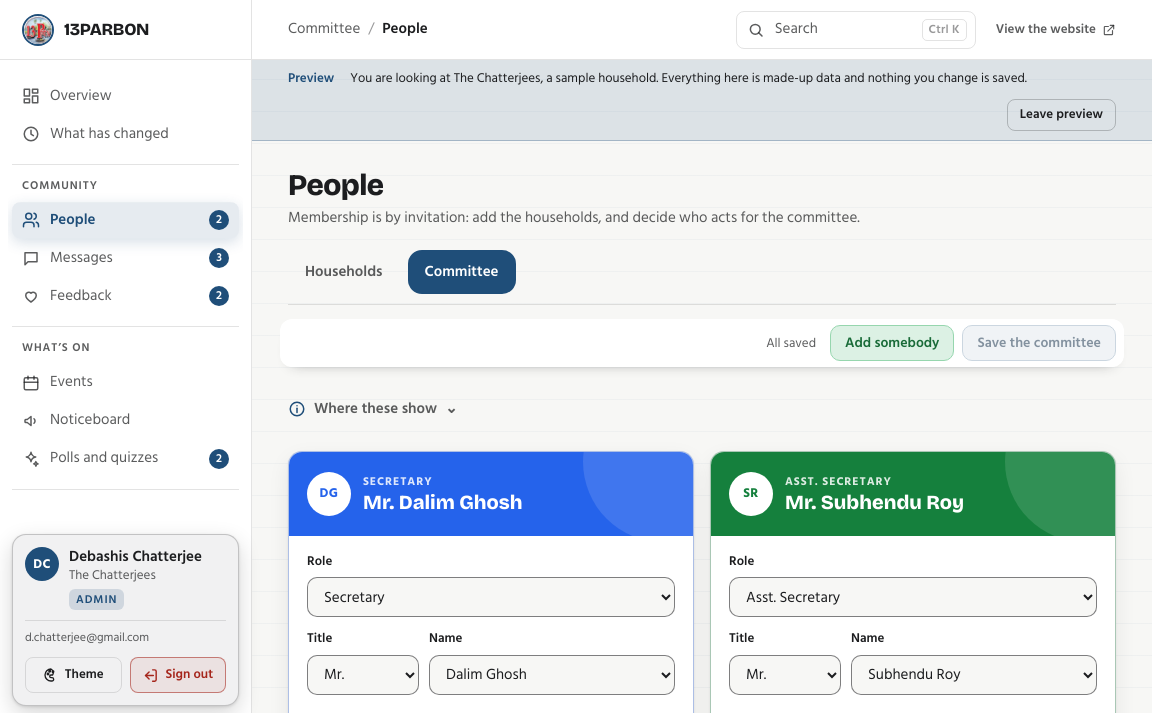
Scenario: the committee, on People › will not save a blank row, and saves a change
Click the button "Add somebody".
click(892, 343)  # box left=830, top=325, right=954, bottom=361
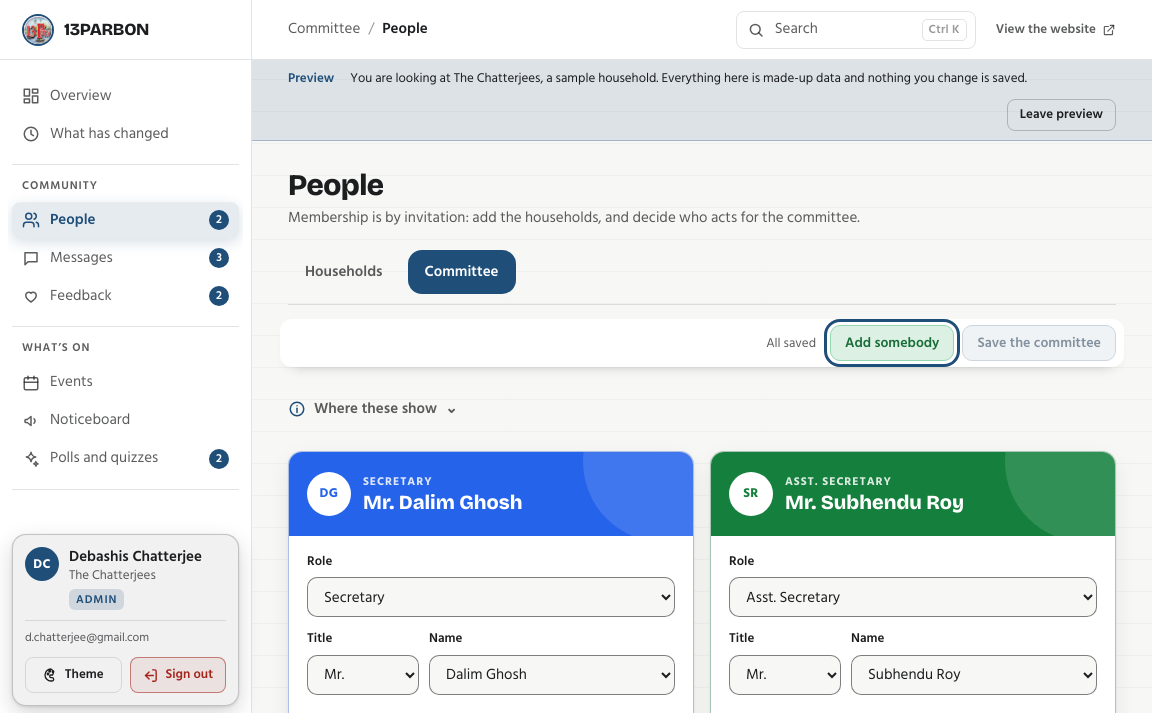
Expected: the button "Save the committee" is disabled, left=962, top=325, right=1116, bottom=361
Select "Ruma Mitra" in the dropdown named "Name 1" at coordinates (552, 675), box left=429, top=655, right=675, bottom=695
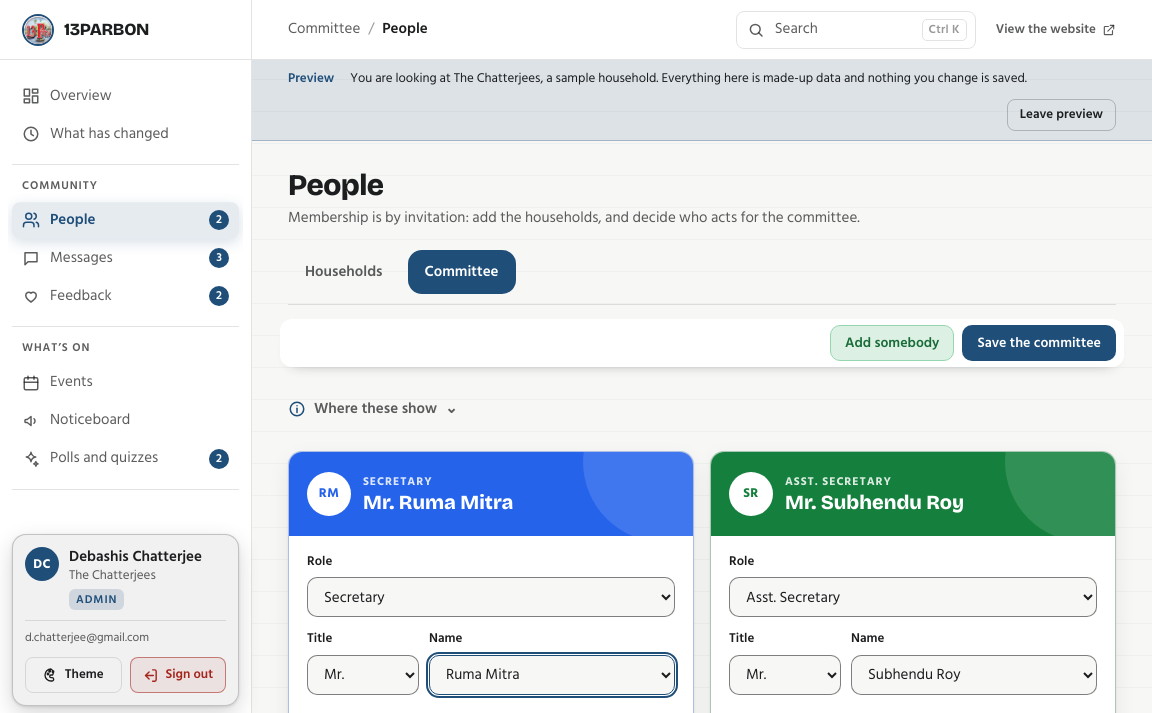
Click the button "Save the committee".
click(1039, 343)  # box left=962, top=325, right=1116, bottom=361
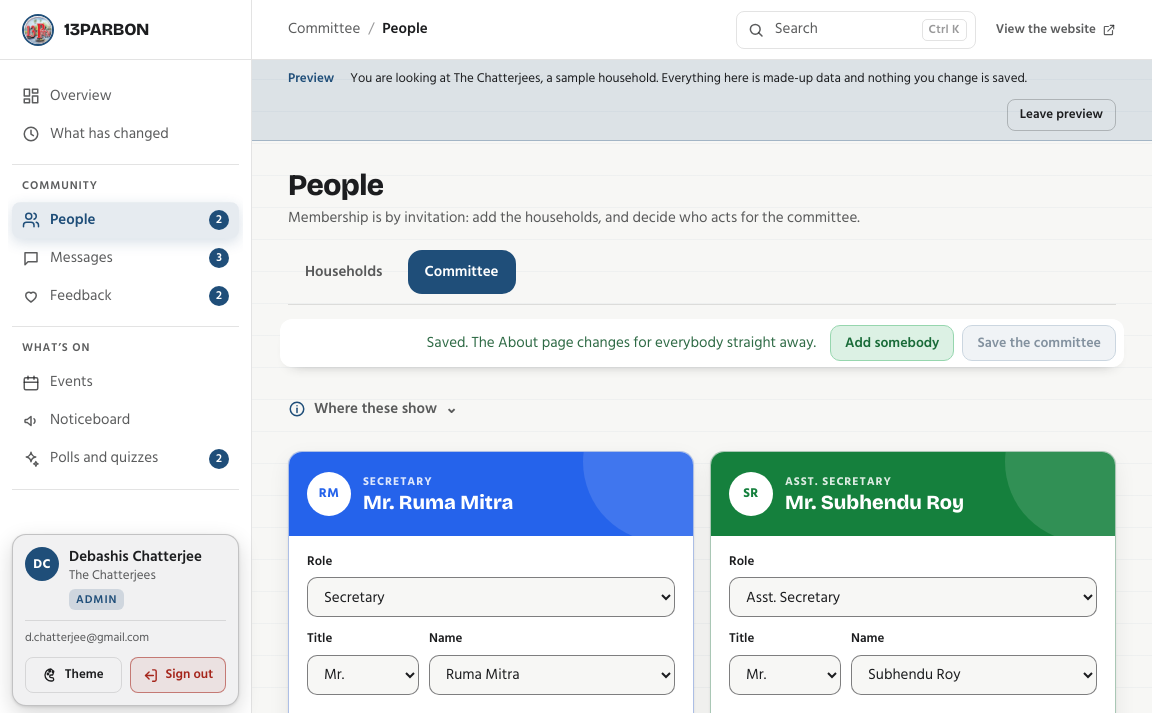
Expected: the text "Saved. The About page changes for everybody straight away." is shown, left=426, top=330, right=816, bottom=355
